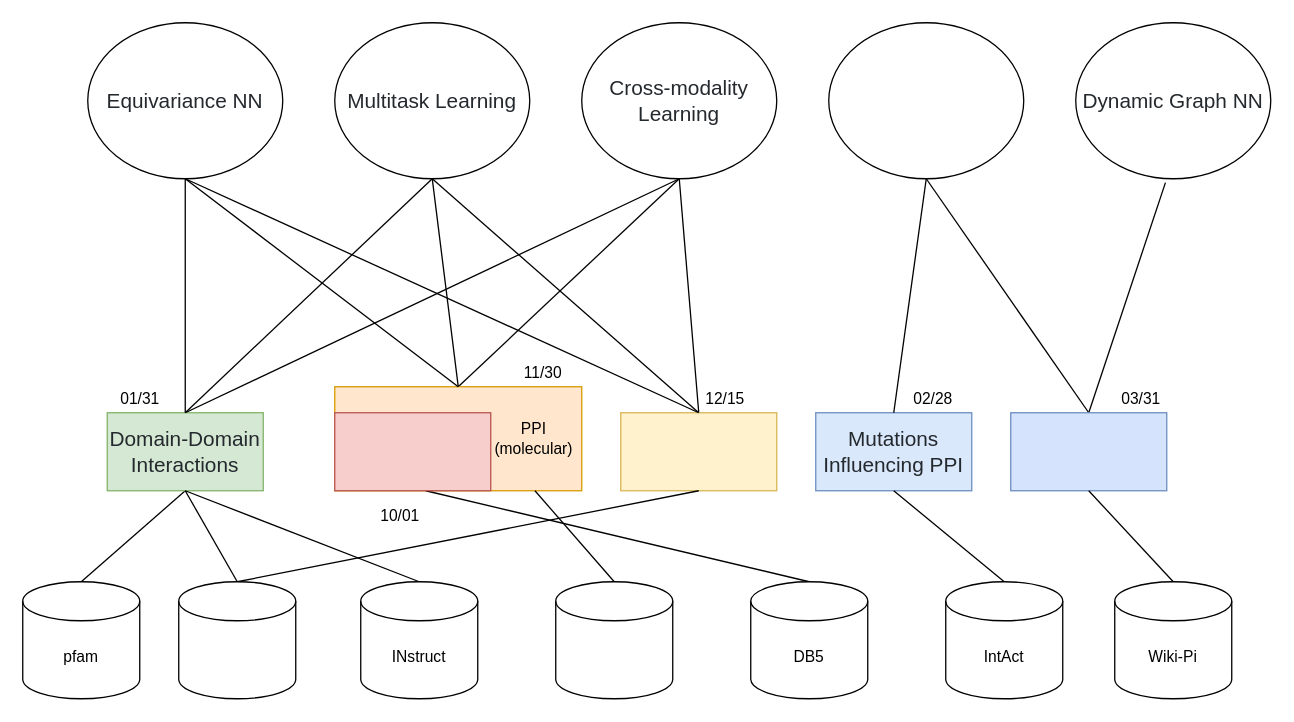
Image size: 1294x722. Some labels were removed from this diagram. The shapes that lost their labels are listed below. From the top down, each one's box as (x1, y1, x2, y2) in pixels, then its label:
(827, 21, 1024, 179): Representation Learning
(333, 411, 491, 491): Complex Structure Refinement
(619, 411, 777, 491): Multi-protein Interactions
(1009, 411, 1167, 491): Protein-Protein Interaction (cellular)
(177, 580, 296, 699): PDB
(554, 580, 673, 699): DIPS
